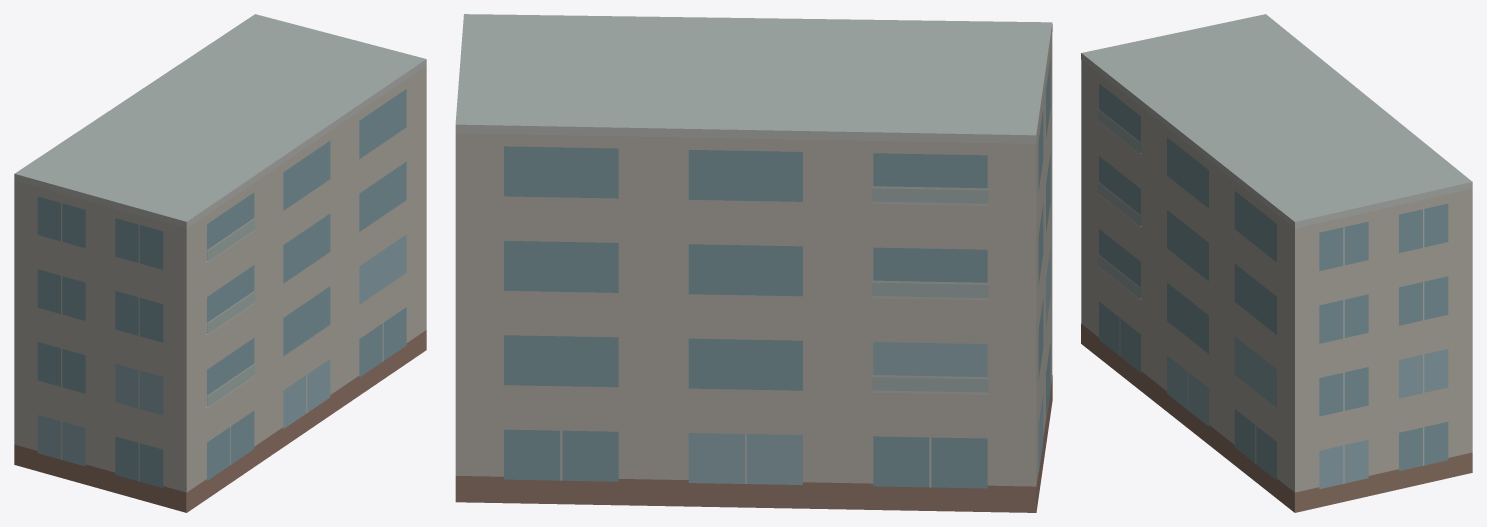
File: survey-upis-32891452.glb
3 renders of one model, left to right at view 1: azimuth 30°, elevation 25°; view 2: azimuth 150°, elevation 25°; view 3: azimuth 270°, elevation 25°, orthographic. The views are drawn at different scales.
Visible parts, largest first — view 1: survey-upis-32891452.tmp; view 2: survey-upis-32891452.tmp; view 3: survey-upis-32891452.tmp.
Boxes of the visible parts, x1,y1,x2,y2 form: survey-upis-32891452.tmp: (14,14,426,512); survey-upis-32891452.tmp: (455,14,1052,512); survey-upis-32891452.tmp: (1081,14,1472,512).
Size of the model in its own units: 16.58 by 10.8 by 13.18.
